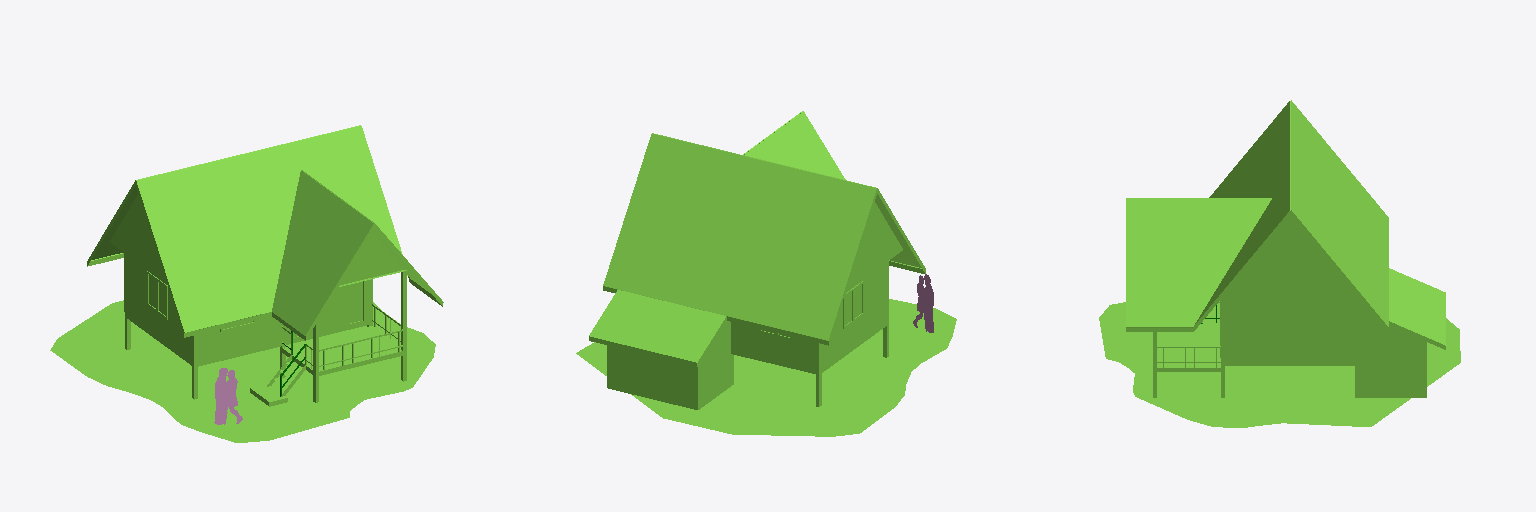
The model's file is vacationhut.obj.
The picture shows the model from 3 angles: view 1: azimuth 30°, elevation 25°; view 2: azimuth 150°, elevation 25°; view 3: azimuth 270°, elevation 25°; orthographic projection.
Visible parts, largest first — view 1: land_001, Component_2_001; view 2: land_001, Component_2_001; view 3: land_001.
Boxes of the visible parts, box(x1,y1,x2,y2) form: land_001: box(50, 125, 443, 442); Component_2_001: box(214, 368, 242, 424); land_001: box(576, 111, 956, 436); Component_2_001: box(913, 274, 933, 332); land_001: box(1099, 100, 1460, 427).
Size of the model in its own units: 402 by 257 by 423.